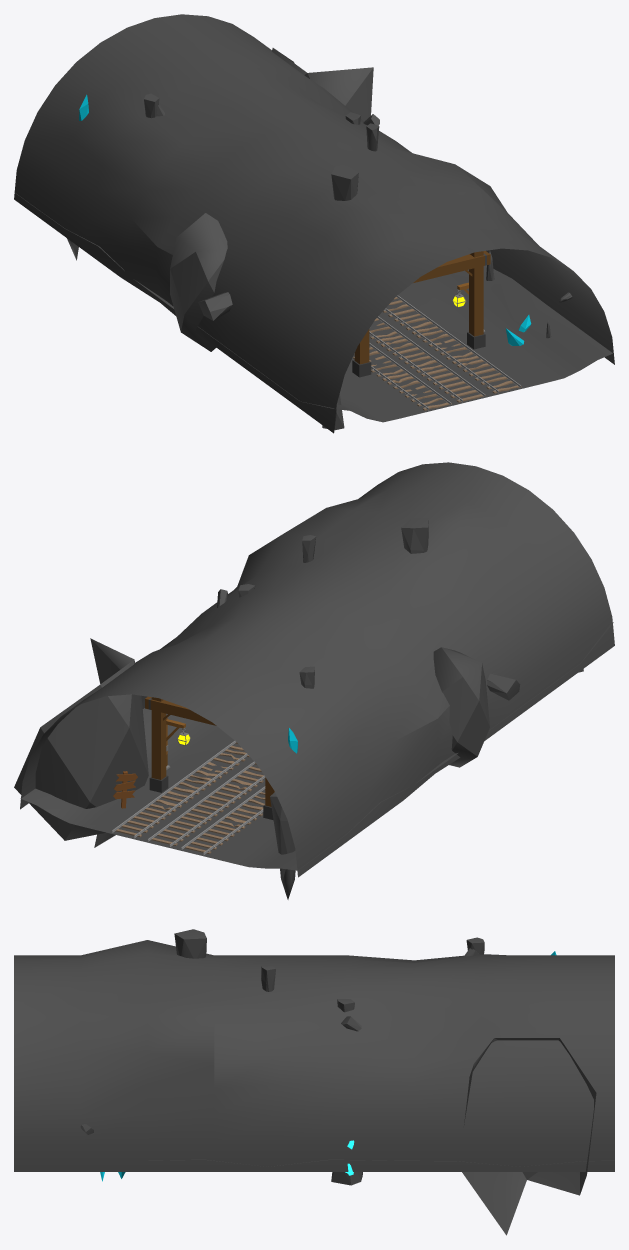
Rendered from Modulo 2.fbx.
3 renders of one model, top to bottom at view 1: azimuth 30°, elevation 25°; view 2: azimuth 150°, elevation 25°; view 3: azimuth 270°, elevation 25°, orthographic. The views are drawn at different scales.
Visible parts, largest first — view 1: Plane.001; view 2: Plane.001; view 3: Plane.001.
Boxes of the visible parts, x1,y1,x2,y2 form: Plane.001: (14,14,614,433); Plane.001: (14,462,614,899); Plane.001: (14,929,614,1235).
Size of the model in its own units: 2716 by 2006 by 4761.
